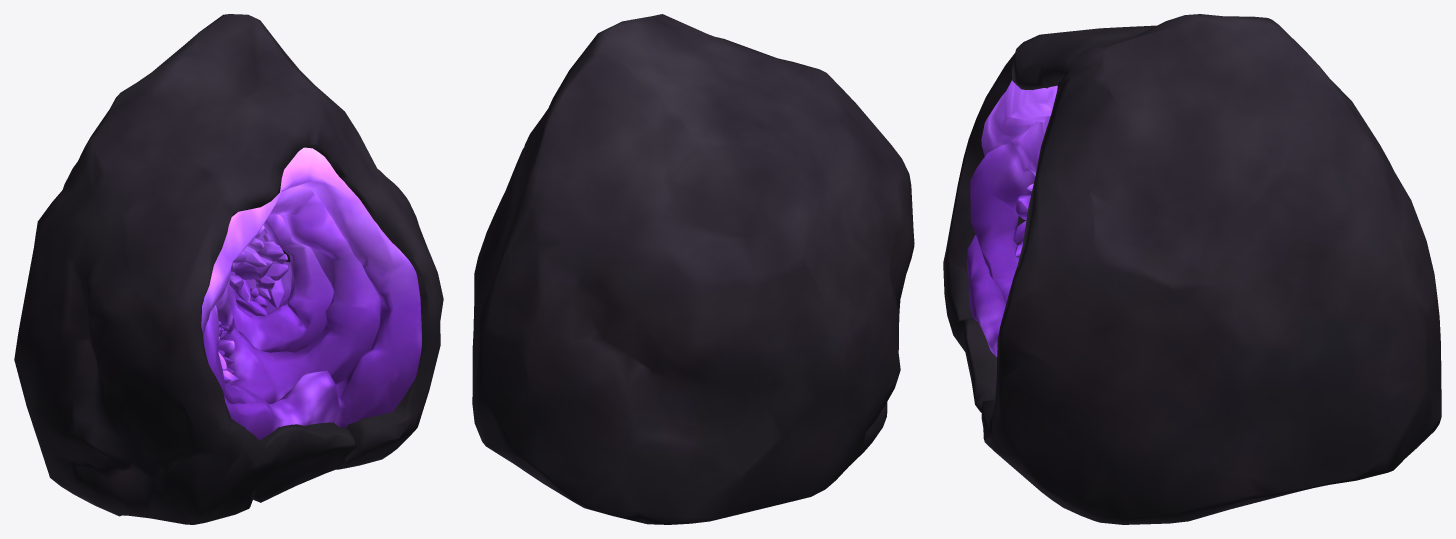
File: odk_geode_a.glb
3 renders of one model, left to right at view 1: azimuth 30°, elevation 25°; view 2: azimuth 150°, elevation 25°; view 3: azimuth 270°, elevation 25°, orthographic. The views are drawn at different scales.
Visible parts, largest first — view 1: odk_geode_a; view 2: odk_geode_a; view 3: odk_geode_a.
Boxes of the visible parts, x1,y1,x2,y2 form: odk_geode_a: [14, 14, 443, 524]; odk_geode_a: [472, 14, 914, 524]; odk_geode_a: [943, 14, 1441, 524].
Bounding box in the file's own units: 7.34 × 7.94 × 7.6.
2 materials, 2 textured.
